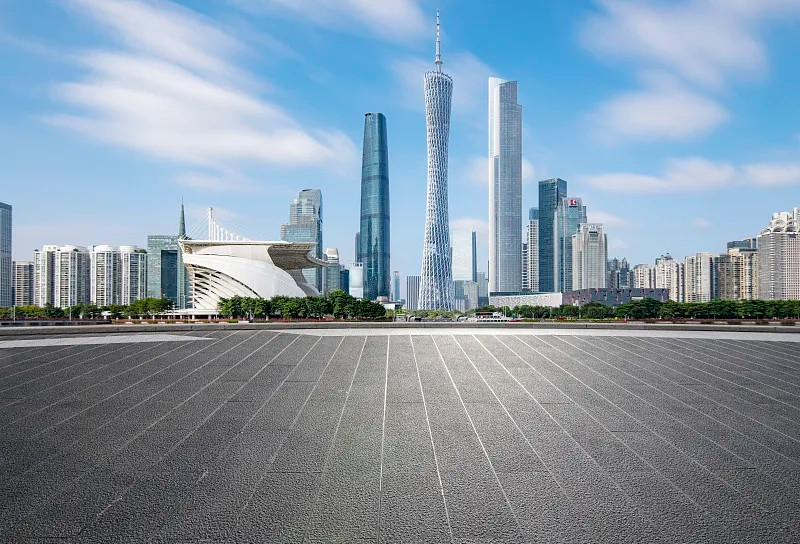Canton: (420, 9, 454, 311)
